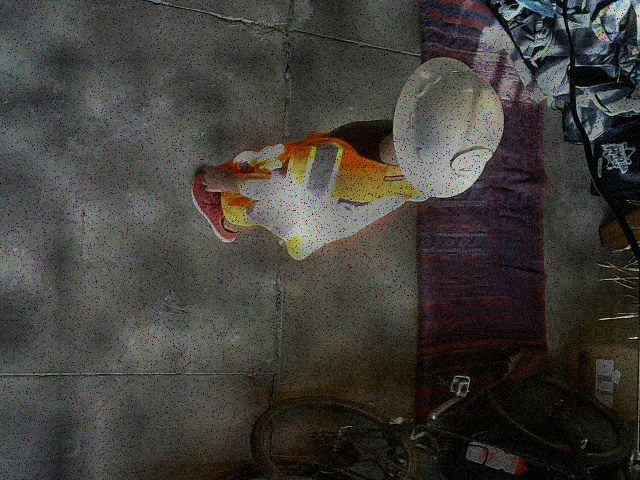two: (451, 148, 491, 177)
